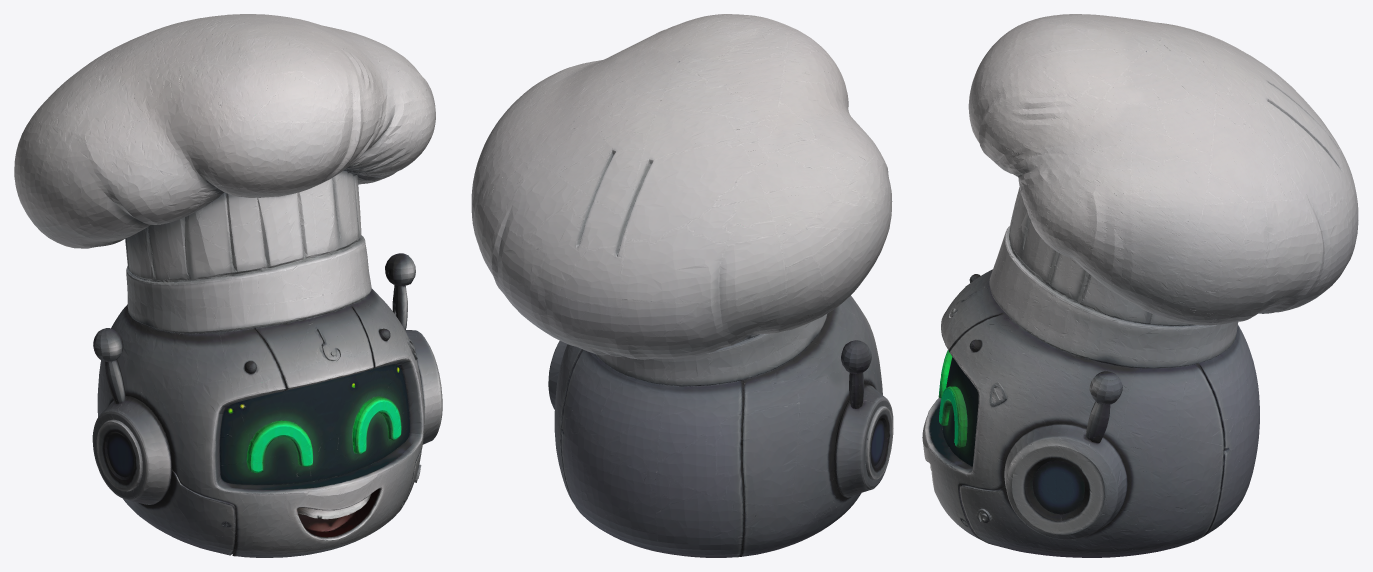
The model's file is modelo.glb.
3 renders of one model, left to right at view 1: azimuth 30°, elevation 25°; view 2: azimuth 150°, elevation 25°; view 3: azimuth 270°, elevation 25°, orthographic.
Parts seen in each view (by area): view 1: tmpwwa5e8yp.obj; view 2: tmpwwa5e8yp.obj; view 3: tmpwwa5e8yp.obj.
Boxes of the visible parts, left/top/right/bottom form: tmpwwa5e8yp.obj: left=14, top=14, right=442, bottom=557; tmpwwa5e8yp.obj: left=471, top=14, right=893, bottom=557; tmpwwa5e8yp.obj: left=922, top=14, right=1358, bottom=557.
Size of the model in its own units: 1.44 by 1.81 by 1.43.
Materials: 1 (1 with a texture image).
